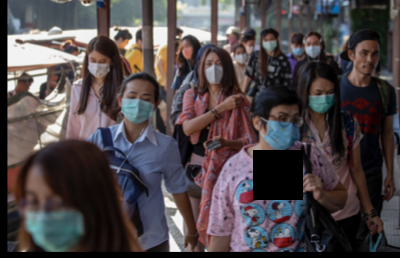with_mask: (22, 185, 87, 248), (262, 109, 301, 151), (120, 88, 155, 123), (308, 86, 335, 113), (87, 55, 110, 78), (204, 57, 223, 84), (304, 39, 321, 57), (181, 40, 194, 59), (263, 35, 277, 51), (234, 49, 247, 63), (291, 42, 304, 55), (245, 41, 255, 53)
without_mask: (353, 46, 379, 74)
